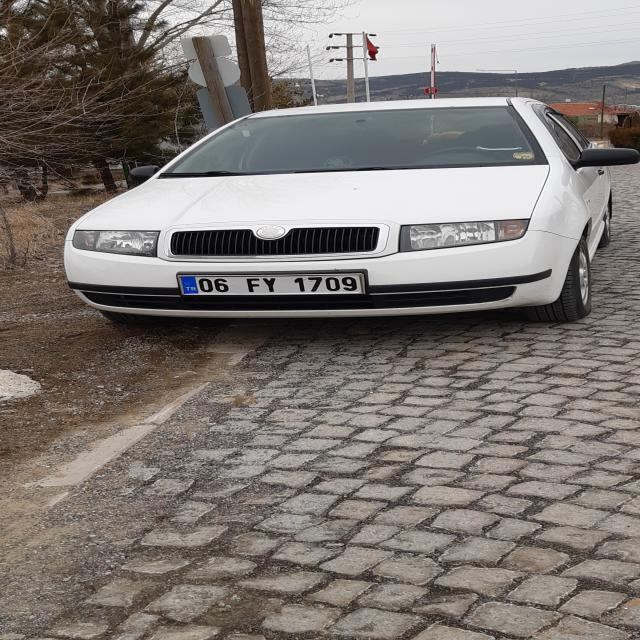plate: (179, 274, 361, 294)
